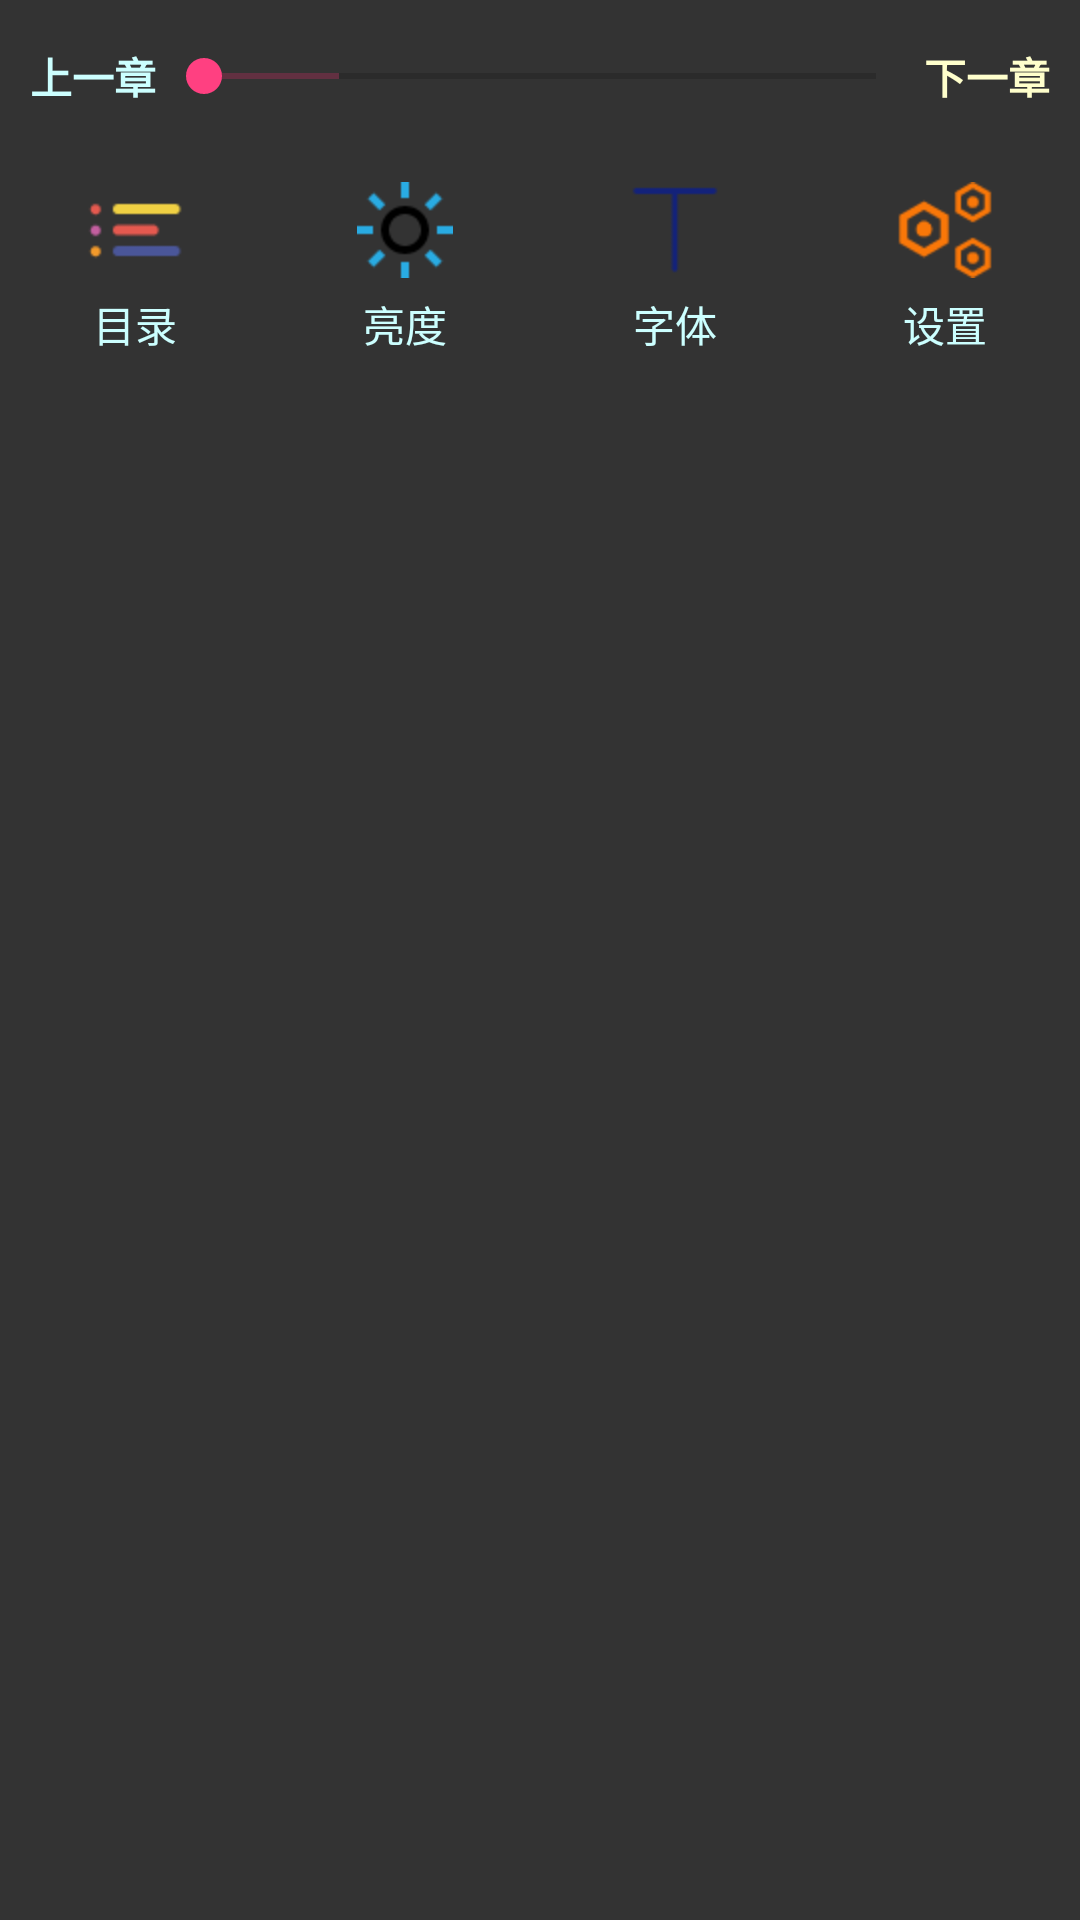

Screen size 1080px x 1920px. Icon name, then its box in pixels as bbox=(x1, y1, x2, y2):
txtcolor: bbox=(633, 188, 717, 272)
